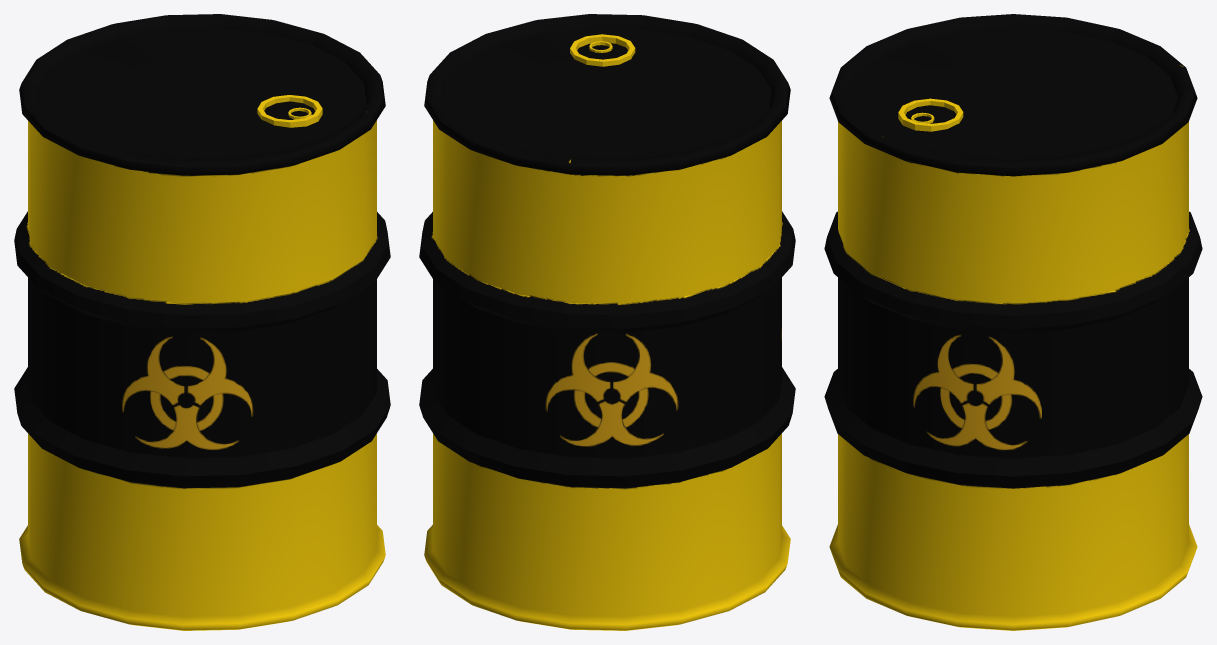
File: Barrel.fbx
The picture shows the model from 3 angles, left to right: view 1: azimuth 30°, elevation 25°; view 2: azimuth 150°, elevation 25°; view 3: azimuth 270°, elevation 25°; orthographic projection.
Parts seen in each view (by area): view 1: Low_poly; view 2: Low_poly; view 3: Low_poly.
Part boxes in pixels (bbox=[...]): Low_poly: bbox=[14, 14, 390, 630]; Low_poly: bbox=[419, 14, 795, 630]; Low_poly: bbox=[824, 14, 1202, 630].
Bounding box in the file's own units: 4.85 × 6.67 × 4.85.
Materials: 1 (1 with a texture image).
